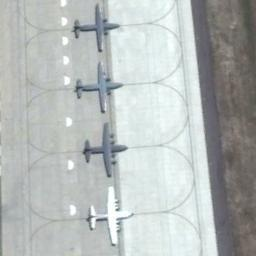Airplane: (86, 186, 140, 248), (77, 118, 134, 175), (67, 4, 126, 54), (74, 58, 126, 114)
